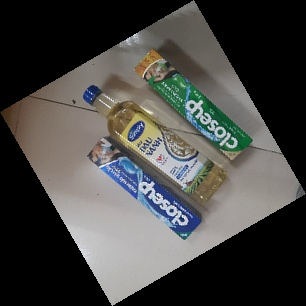CloseUp Tuyet: (86, 136, 202, 242)
CloseUp Xanh: (131, 47, 253, 163)
Simply: (82, 84, 227, 206)
